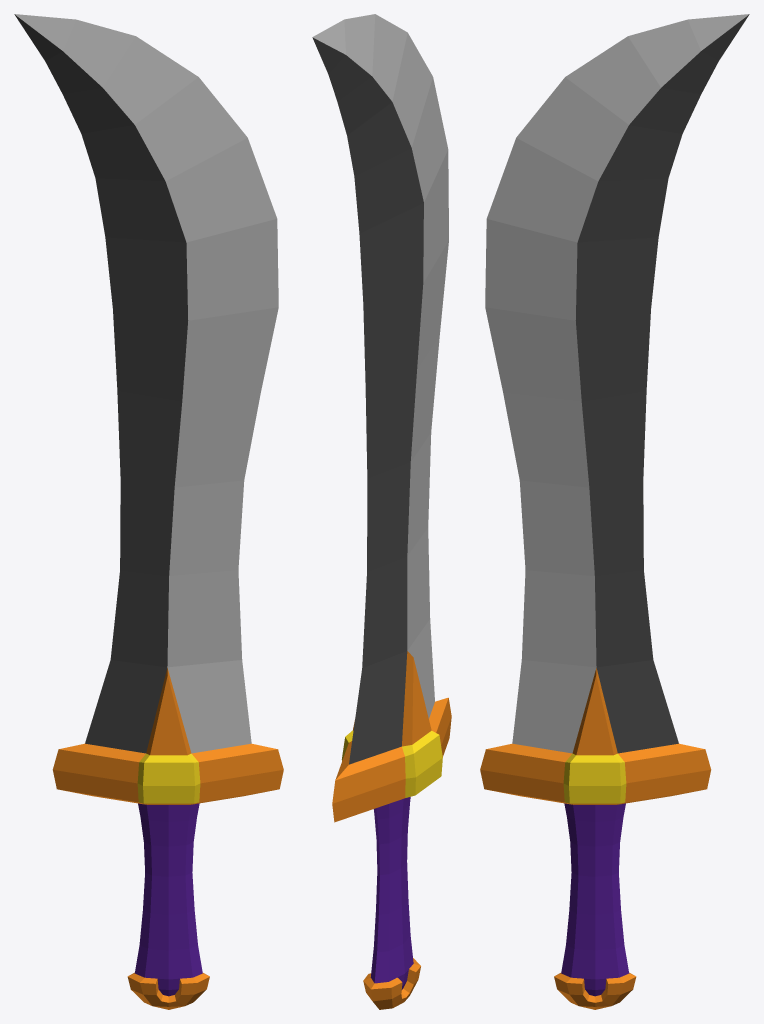
3 renders of one model, left to right at view 1: azimuth 90°, elevation 25°; view 2: azimuth 150°, elevation 25°; view 3: azimuth 270°, elevation 25°, orthographic. The views are drawn at different scales.
Visible parts, largest first — view 1: Sword09; view 2: Sword09; view 3: Sword09.
Boxes of the visible parts, x1,y1,x2,y2 form: Sword09: (14,14,283,1009); Sword09: (312,14,451,1009); Sword09: (480,14,749,1009).
Bounding box in the file's own units: 10.19 × 33.19 × 135.
Materials: 1 (1 with a texture image).
